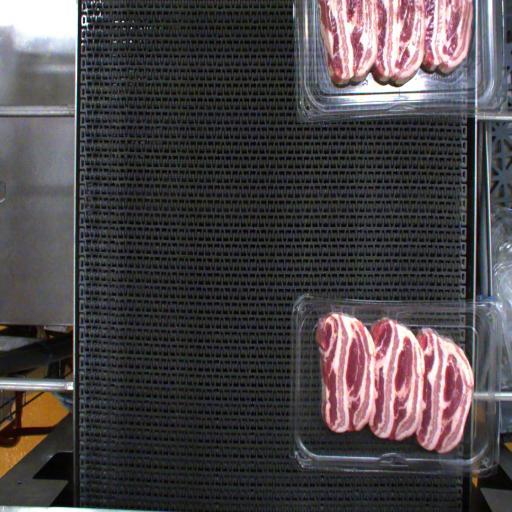packaging-error: (325, 292, 363, 324), (374, 304, 409, 330)
